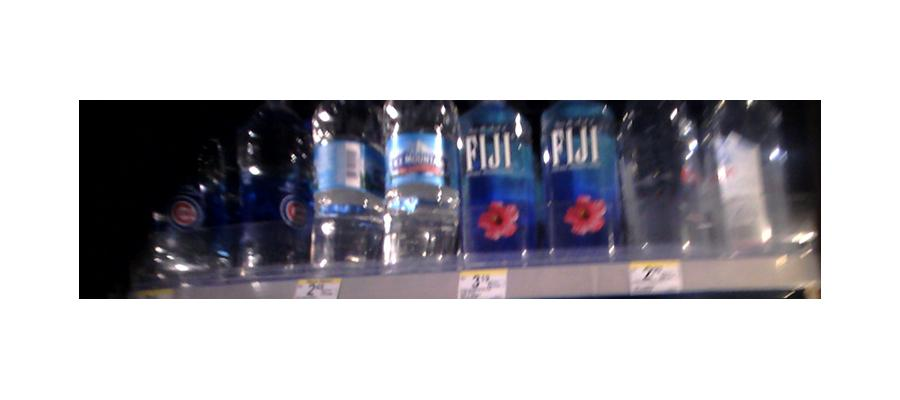bottle: (703, 100, 796, 257), (378, 100, 461, 271), (459, 100, 539, 264), (234, 101, 308, 274), (619, 100, 701, 255), (542, 98, 618, 259), (153, 120, 227, 285), (310, 102, 379, 269)
